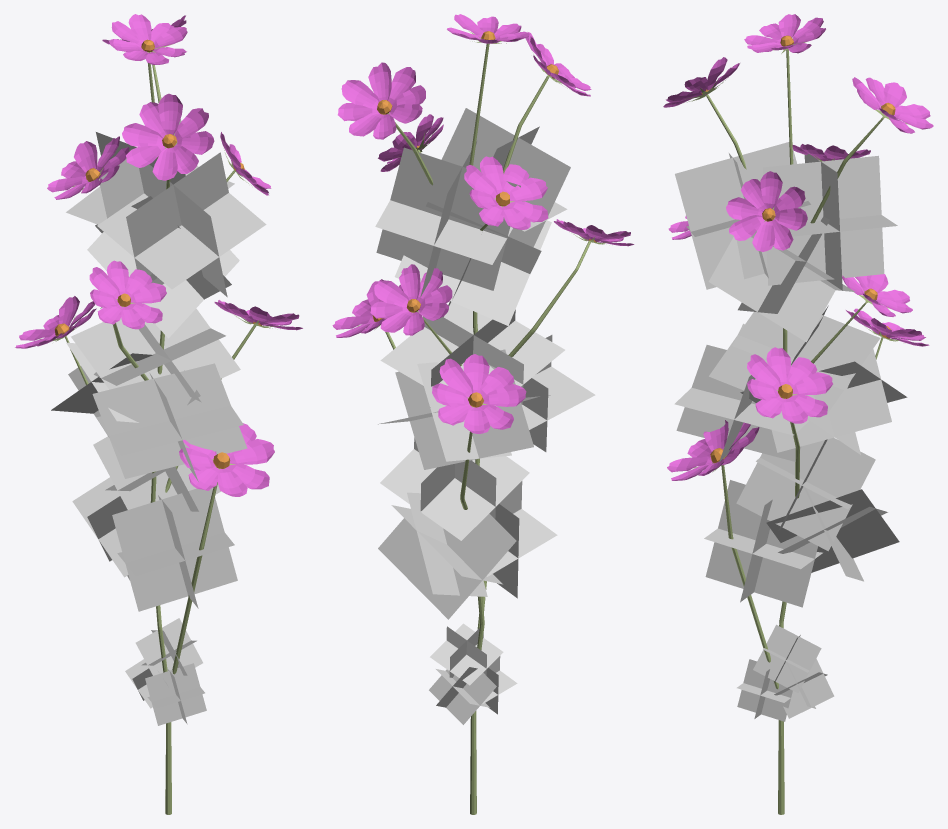
Rendered from cosmea.fbx.
3 views of the same model, side by side, from view 1: azimuth 30°, elevation 25°; view 2: azimuth 150°, elevation 25°; view 3: azimuth 270°, elevation 25° (orthographic). The views are drawn at different scales.
Visible parts, largest first — view 1: leaves, blossom; view 2: leaves, blossom; view 3: leaves, blossom.
Part boxes in pixels (x1,y1,x2,y2): leaves: [51, 119, 266, 725]; blossom: [15, 14, 302, 814]; leaves: [375, 108, 595, 724]; blossom: [332, 14, 634, 814]; leaves: [674, 142, 907, 721]; blossom: [663, 14, 933, 814].
Size of the model in its own units: 34.9 by 33.55 by 107.
